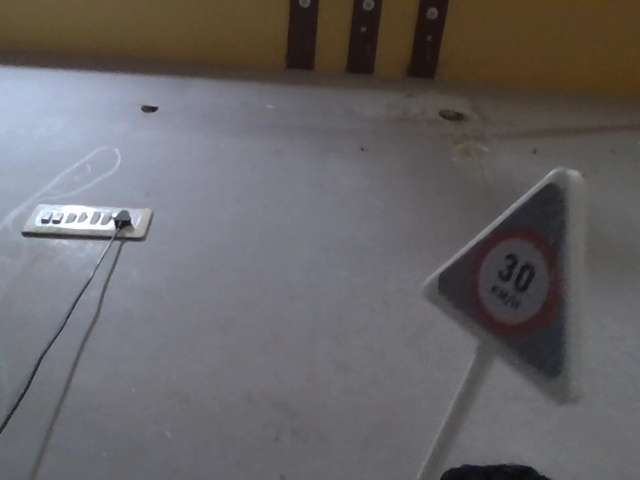speedlimit: (406, 145, 594, 394)
